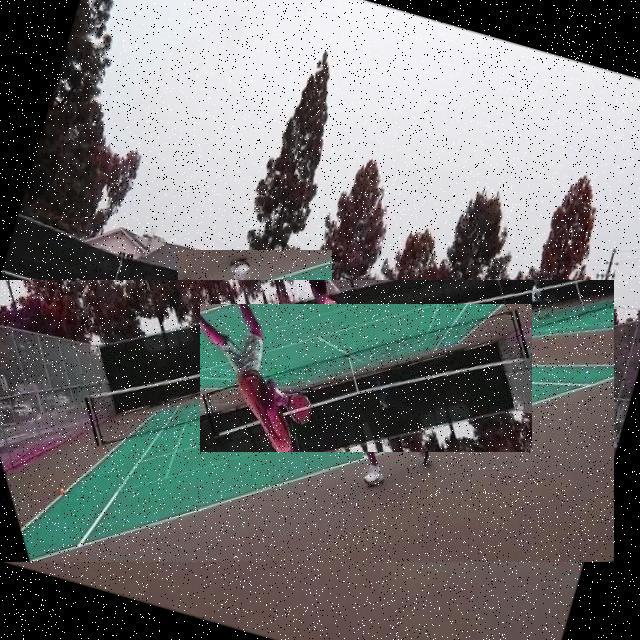court: (0, 280, 614, 562)
net: (200, 304, 532, 452)
player: (178, 250, 332, 496)
